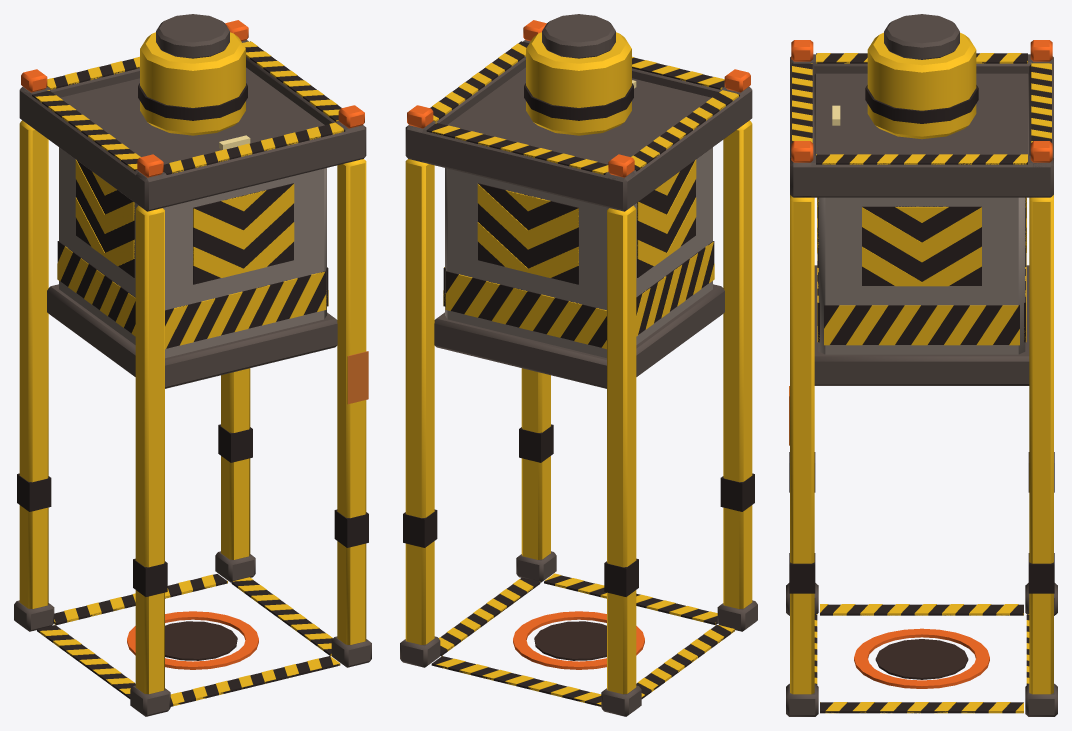
File: trap_crusher_stamper__upper.glb
3 views of the same model, side by side, from view 1: azimuth 30°, elevation 25°; view 2: azimuth 150°, elevation 25°; view 3: azimuth 270°, elevation 25° (orthographic). The views are drawn at different scales.
Parts seen in each view (by area): view 1: Frame, Head; view 2: Frame, Head; view 3: Frame, Head.
Part boxes in pixels (<box>): Frame: <box>14,14,371,716</box>; Head: <box>47,147,337,388</box>; Frame: <box>400,14,757,716</box>; Head: <box>434,147,724,388</box>; Frame: <box>786,14,1057,716</box>; Head: <box>814,197,1029,385</box>.
Size of the model in its own units: 1 by 2.57 by 1.
